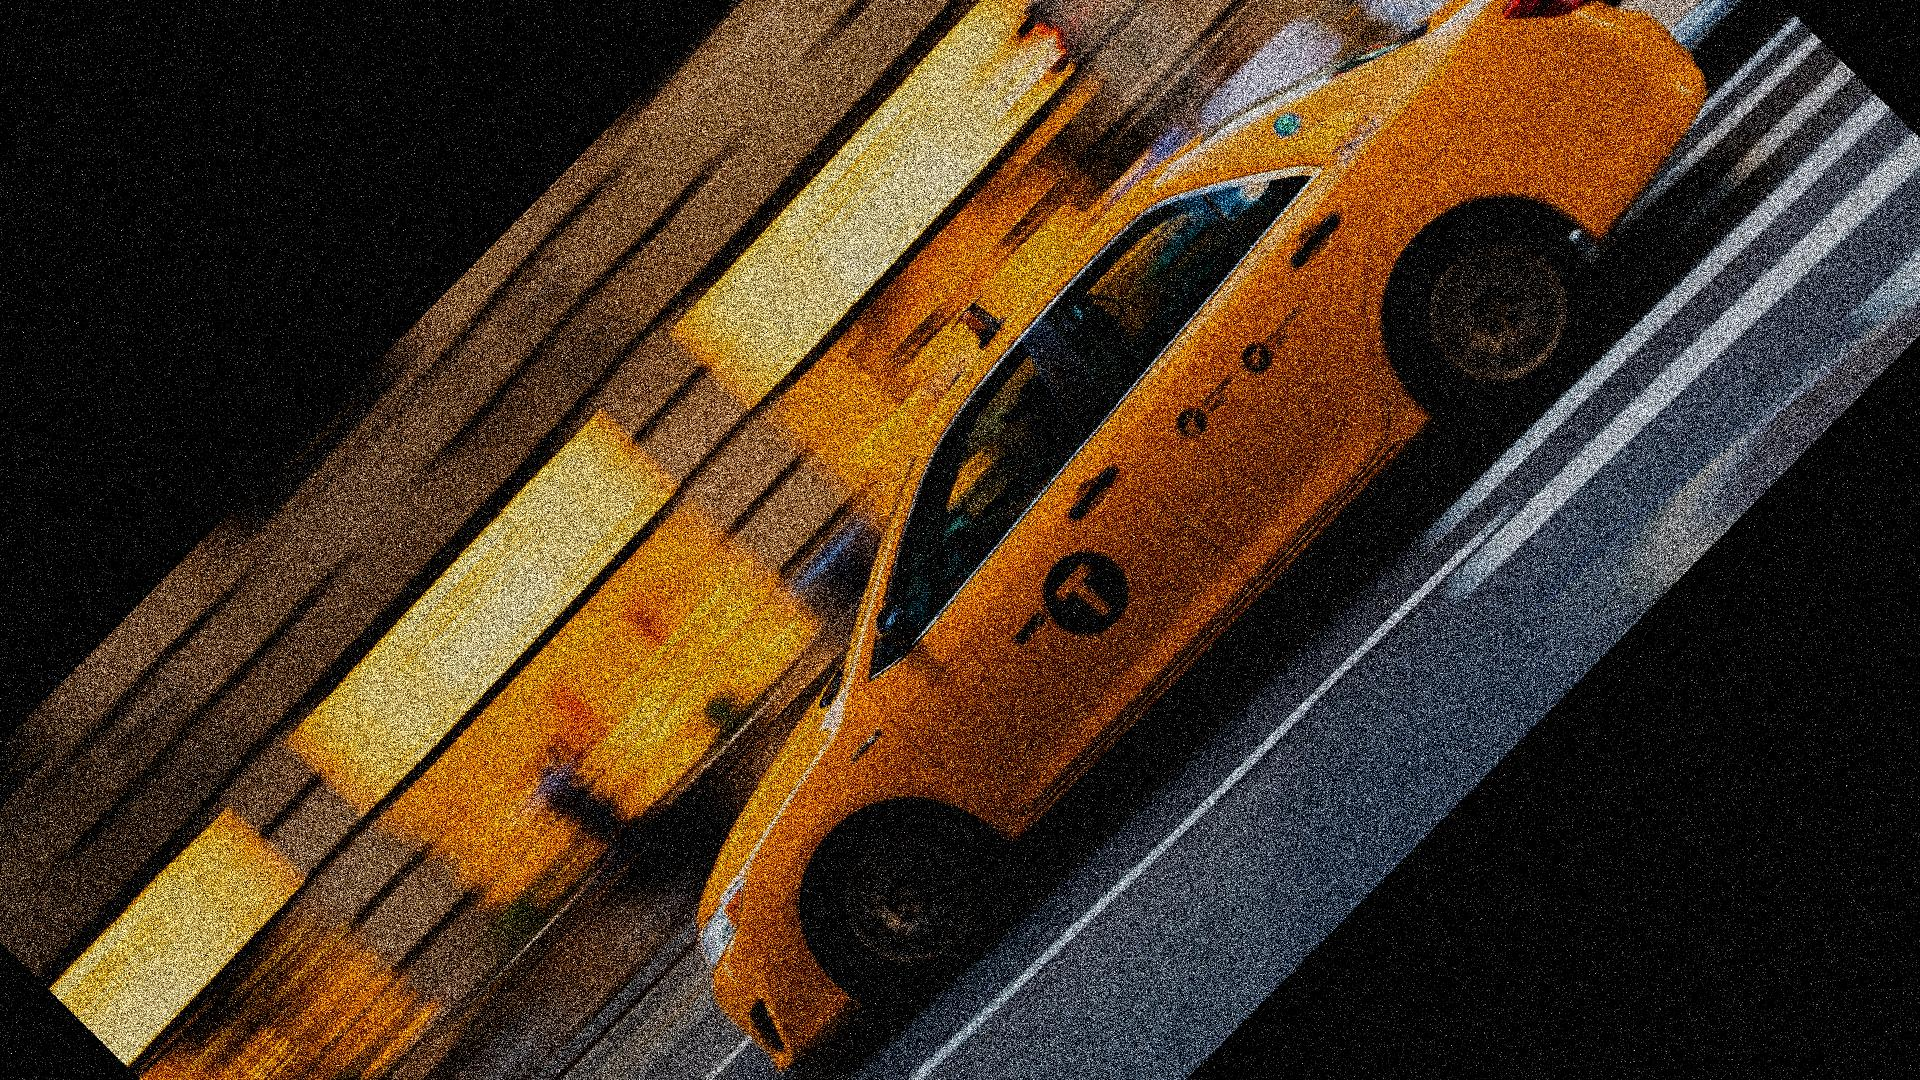taxi: (670, 1, 1708, 1059)
